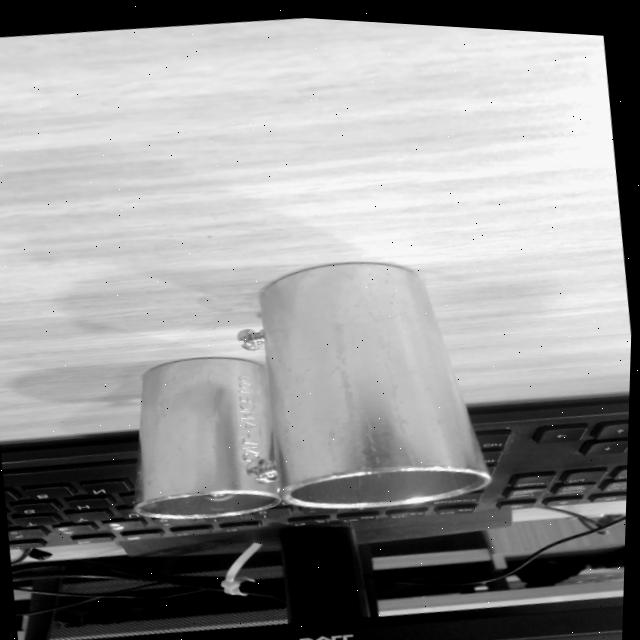Co_Lon: (227, 257, 492, 514)
Co_Nho: (118, 351, 282, 526)
